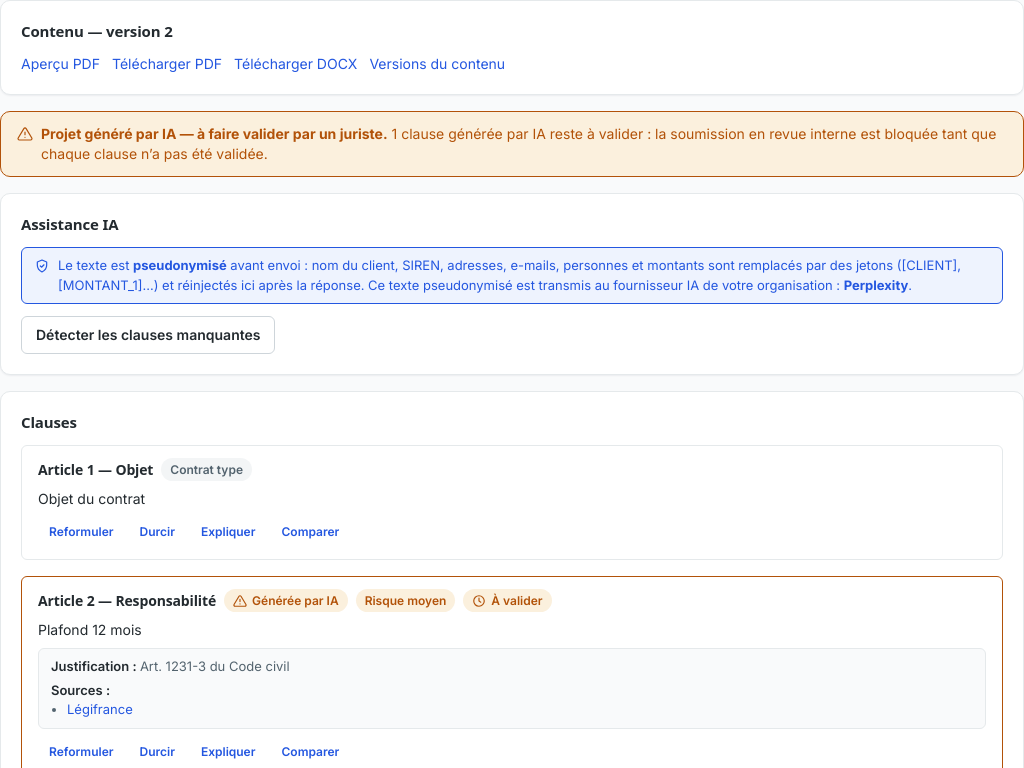
Test: « Expliquer » affiche l’explication ; erreur serveur en français
What coordinates should you click on to do the following:
click the button with aria-label "Expliquer la clause Objet"
I would click on:
 (228, 532)
Its box is left=190, top=517, right=266, bottom=547.
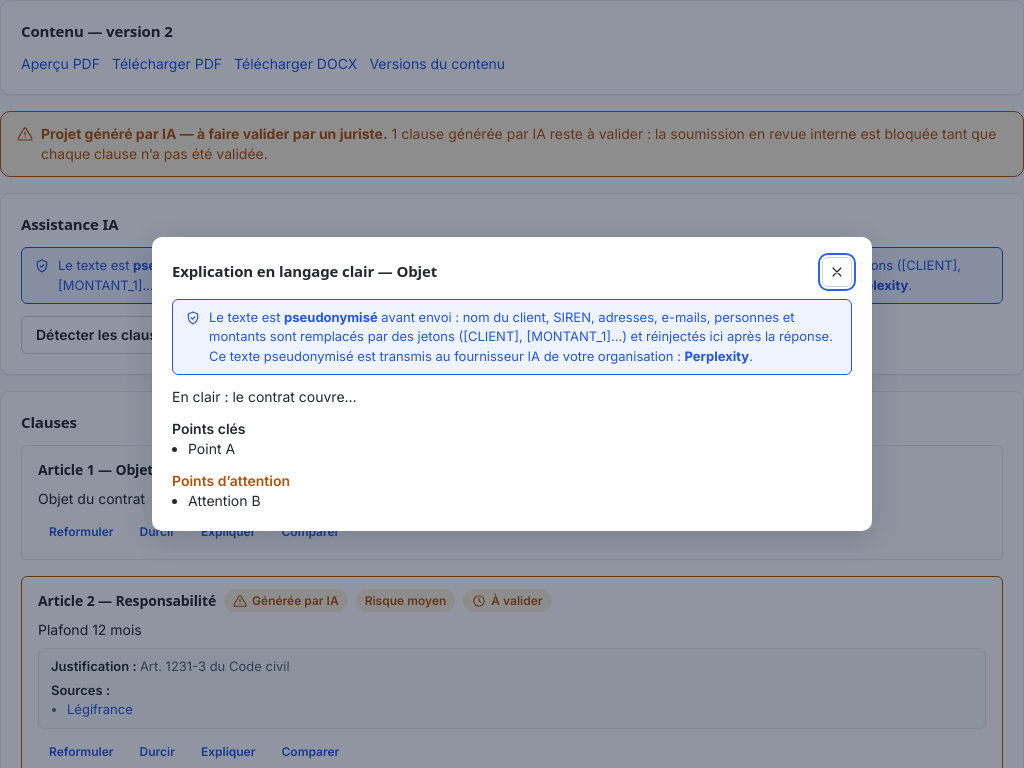
Now the text "En clair : le contrat couvre…" is shown, box left=172, top=388, right=357, bottom=405
Now the list item "Attention B" is shown, box left=188, top=492, right=261, bottom=509
What coordinates should you click on to do the following:
click the button named "Fermer"
I would click on:
 (837, 272)
Its box is left=822, top=257, right=852, bottom=287.
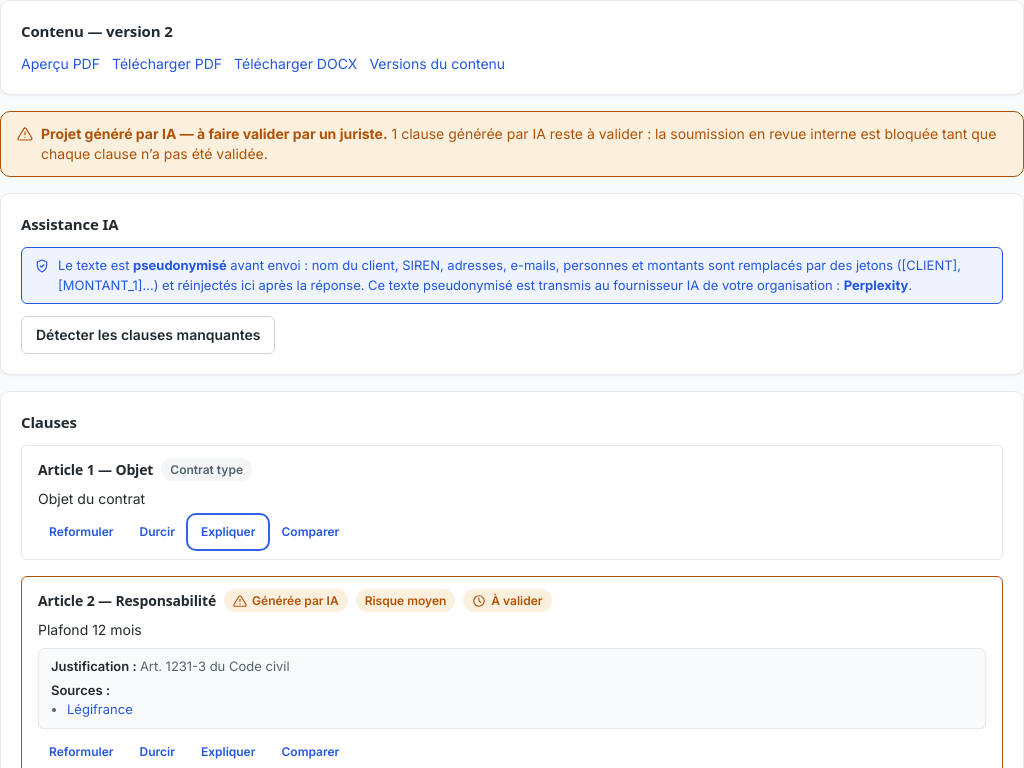
What coordinates should you click on to do the following:
click the button with aria-label "Comparer la clause Objet"
I would click on:
 (310, 532)
Its box is left=270, top=517, right=350, bottom=547.
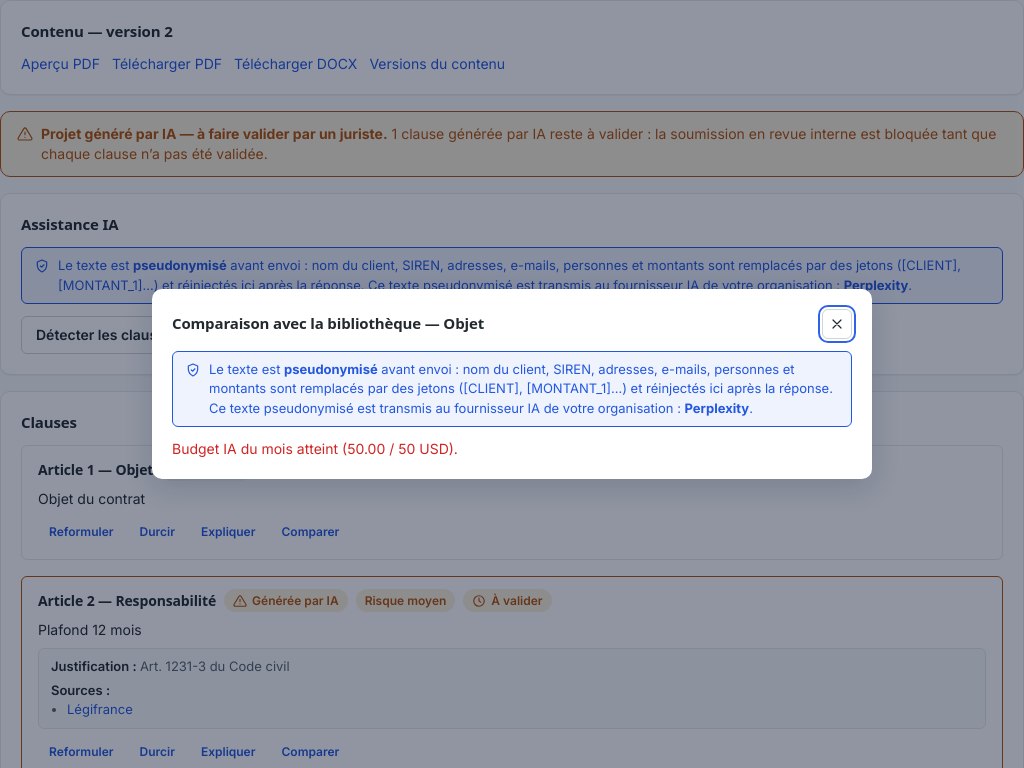
Now the text "Budget IA du mois atteint (50.00 / 50 USD)." is shown, box left=172, top=440, right=458, bottom=457
